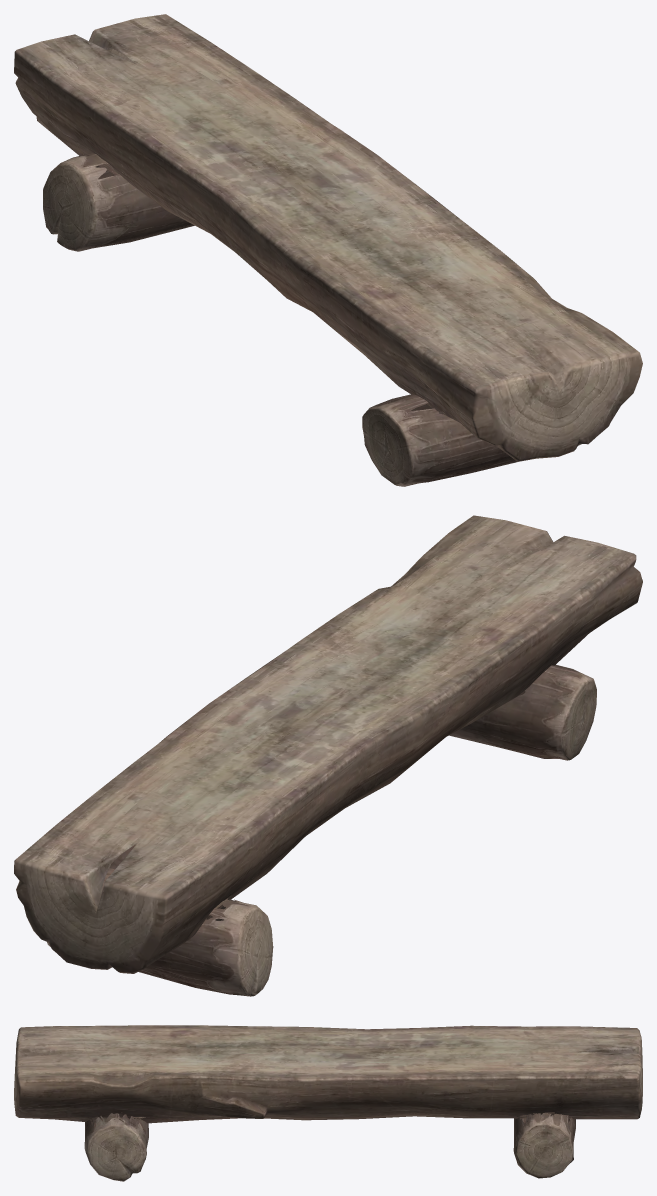
The picture shows the model from 3 angles, top to bottom: view 1: azimuth 30°, elevation 25°; view 2: azimuth 150°, elevation 25°; view 3: azimuth 270°, elevation 25°; orthographic projection. The views are drawn at different scales.
Parts seen in each view (by area): view 1: SM_Garou_Bench_01_LOD0; view 2: SM_Garou_Bench_01_LOD0; view 3: SM_Garou_Bench_01_LOD0.
Boxes of the visible parts, left/top/right/bottom form: SM_Garou_Bench_01_LOD0: left=14, top=14, right=642, bottom=486; SM_Garou_Bench_01_LOD0: left=14, top=515, right=642, bottom=996; SM_Garou_Bench_01_LOD0: left=14, top=1025, right=642, bottom=1181.
Size of the model in its own units: 1.05 by 0.7571 by 4.25.
Materials: 1 (1 with a texture image).
